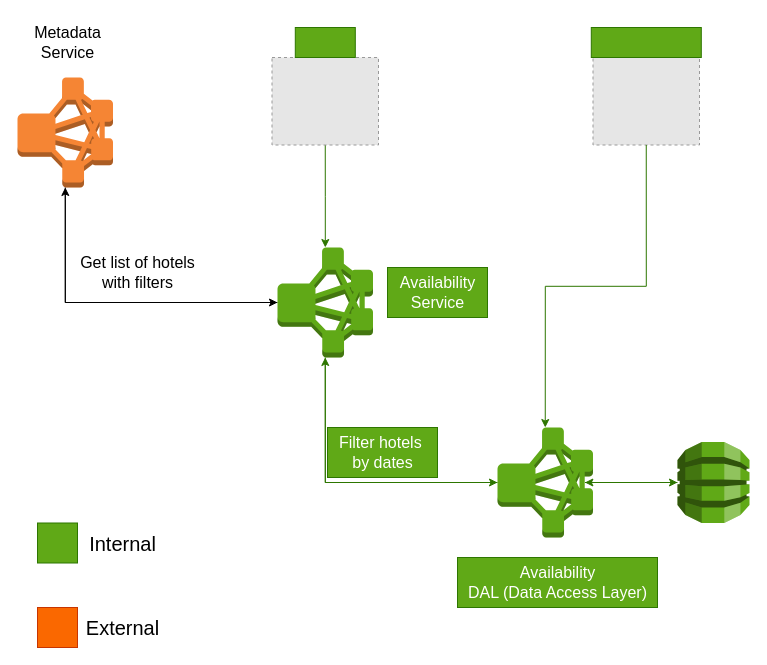
The diagram is 767 pixels wide and 665 high, and some of its shapes have lost their labels. Grey dashed boxes stand in for pictures. The shapes that lost their labels are listed below. From the top down, each one's centre as x and y in pixels, then its label:
At point (324, 42): "User".
At point (645, 42): "Hotel Admin".
